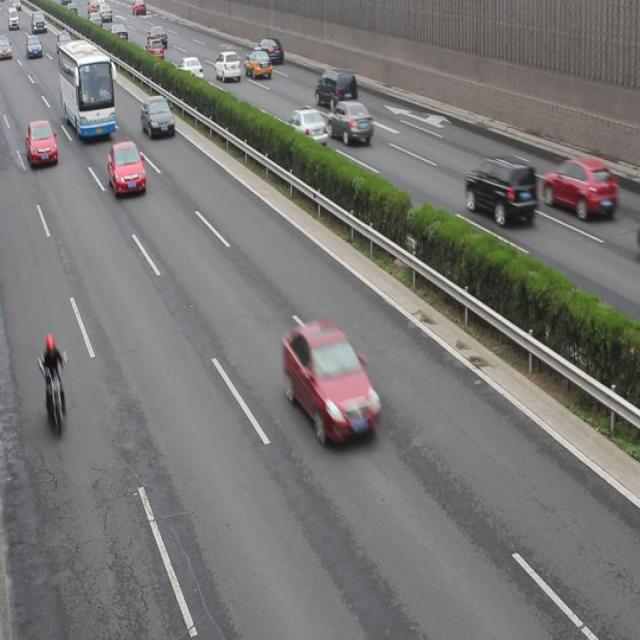car: (282, 323, 378, 446), (464, 156, 537, 228), (542, 157, 618, 222), (327, 100, 372, 147), (106, 142, 144, 197), (25, 119, 59, 168), (286, 109, 327, 148), (140, 98, 175, 140), (244, 49, 271, 80), (214, 51, 240, 82), (256, 37, 284, 64), (179, 56, 203, 81), (145, 36, 165, 60), (147, 25, 167, 48), (108, 22, 126, 41)
truck: (314, 69, 357, 111)
van: (58, 38, 116, 141)
